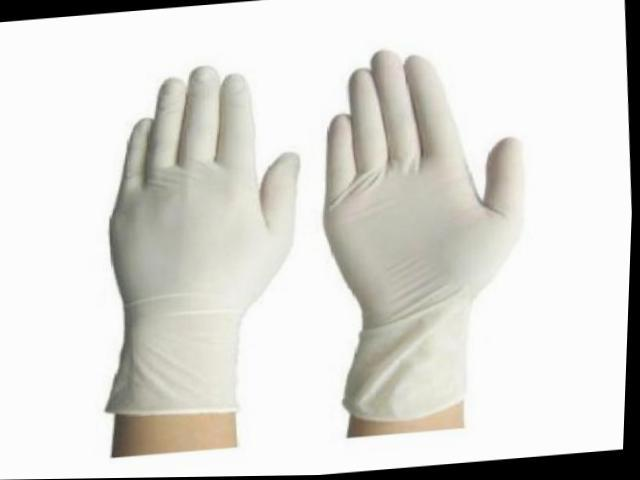Hand-in-Glove: (46, 50, 323, 461), (295, 36, 560, 438)
